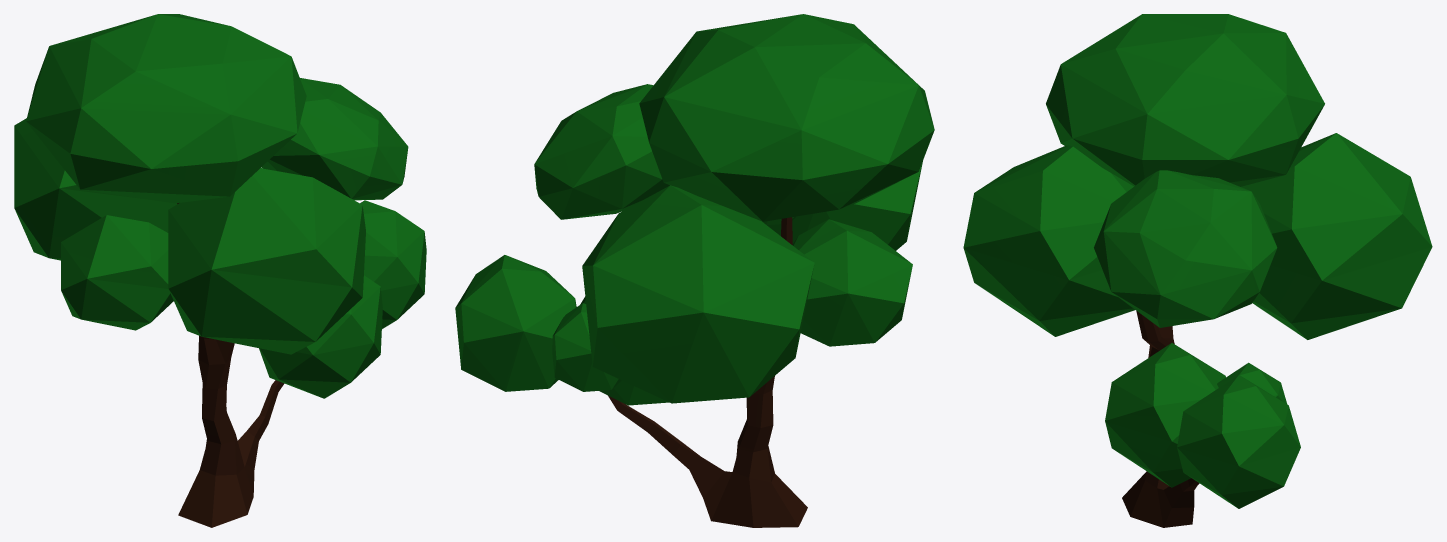
The model's file is shu03.FBX.
3 renders of one model, left to right at view 1: azimuth 30°, elevation 25°; view 2: azimuth 150°, elevation 25°; view 3: azimuth 270°, elevation 25°, orthographic. The views are drawn at different scales.
Visible parts, largest first — view 1: Cylinder001; view 2: Cylinder001; view 3: Cylinder001.
Boxes of the visible parts, x1,y1,x2,y2 form: Cylinder001: (14, 14, 426, 527); Cylinder001: (455, 14, 934, 527); Cylinder001: (963, 14, 1432, 527).
Bounding box in the file's own units: 10165 × 11392 × 10445.
